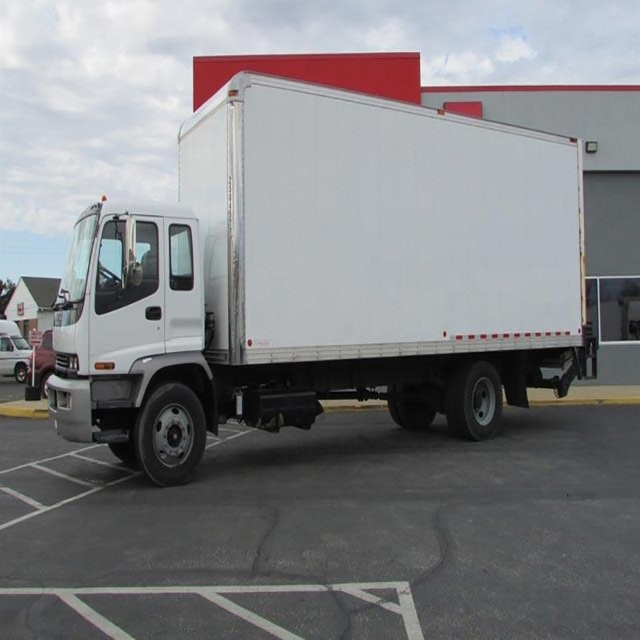Truck: (46, 69, 587, 490)
Van: (1, 319, 32, 382)
